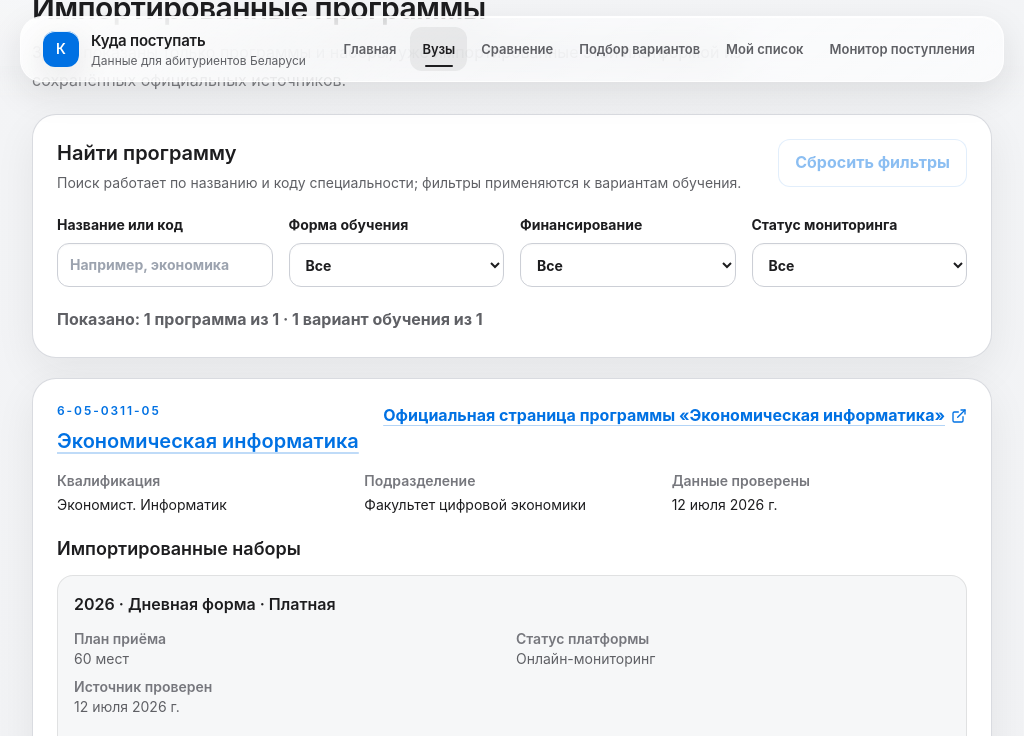
Test case: catalog return navigation and obsolete requests › carries the exact university URL through the program link and return action
(page scrolled)
Click the link "Экономическая информатика".
click(208, 441)  # box [57,429,359,453]
(page scrolled)
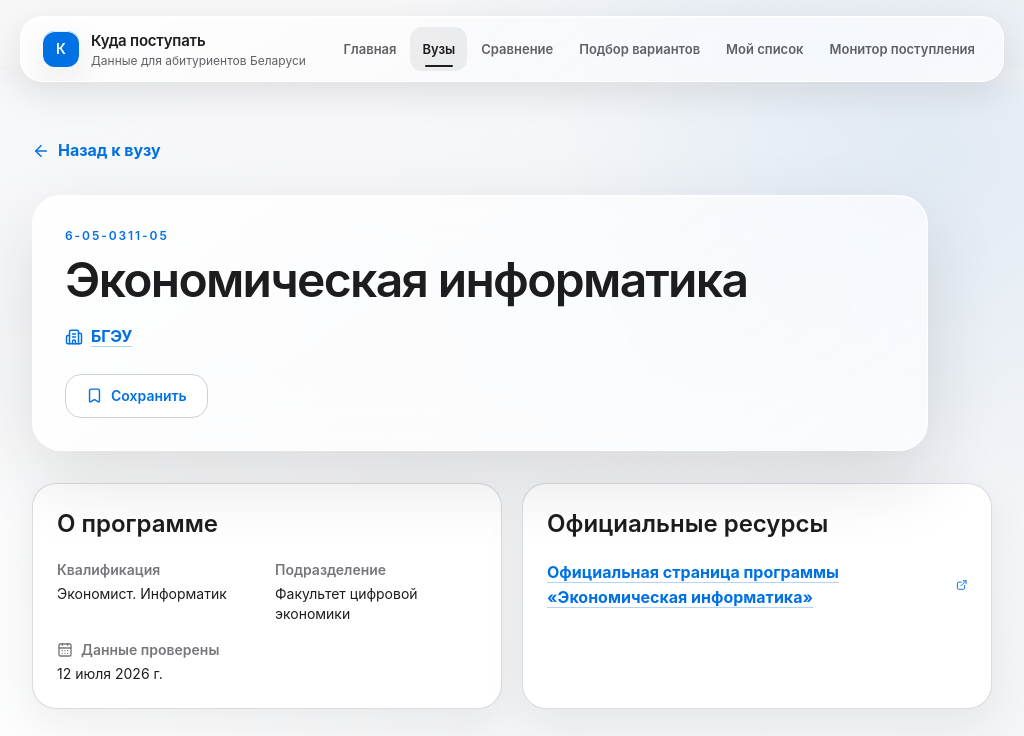
Check: the heading "Экономическая информатика" is shown, box [65,250,747,309]
